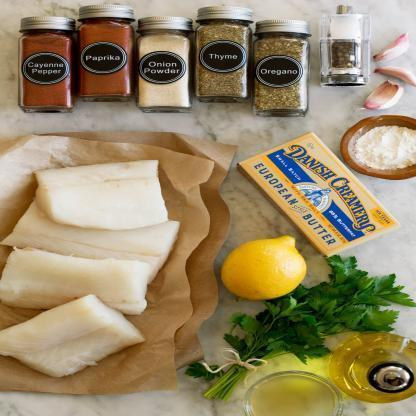lemon: (221, 235, 306, 300)
